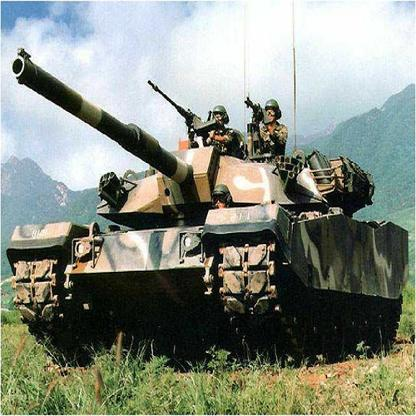Tank: (3, 51, 408, 367)
